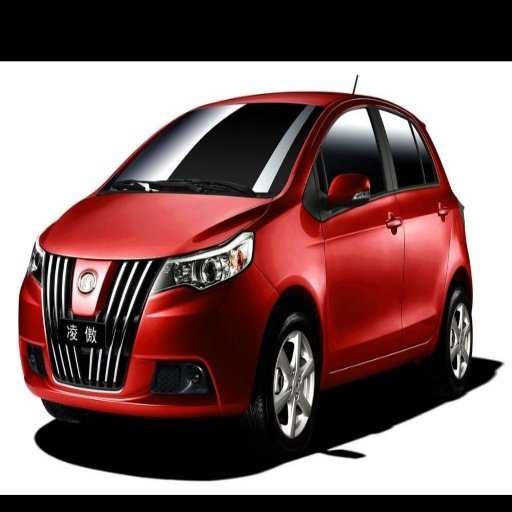front_bumper: (19, 252, 275, 418)
front_glass: (98, 102, 322, 195)
front_left_door: (307, 103, 404, 368)
